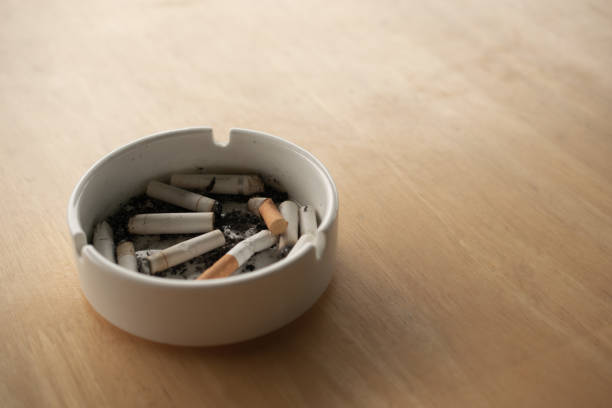cigarette: (195, 229, 277, 280), (140, 229, 227, 275), (145, 180, 219, 211), (129, 210, 216, 235), (168, 173, 264, 195), (247, 198, 288, 234), (278, 199, 300, 257), (93, 219, 116, 264), (116, 238, 139, 273), (300, 205, 318, 233)
